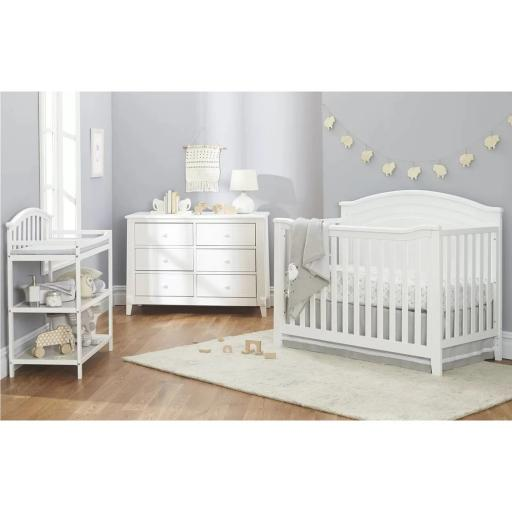crib: (274, 191, 502, 375)
